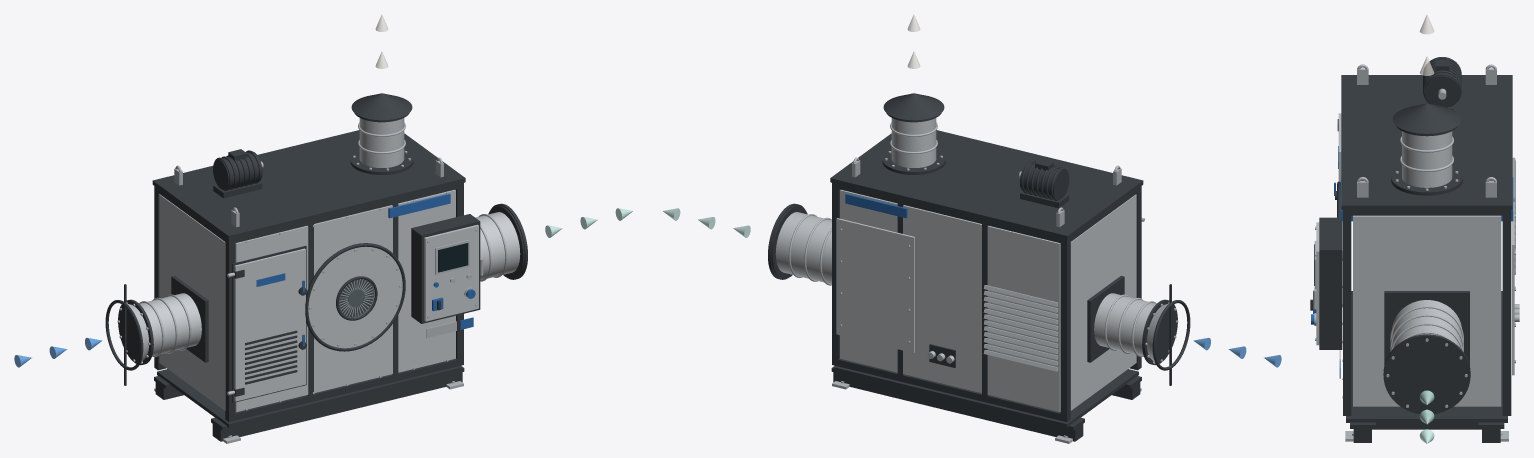
The model's file is dehumidifier.glb.
3 renders of one model, left to right at view 1: azimuth 30°, elevation 25°; view 2: azimuth 150°, elevation 25°; view 3: azimuth 270°, elevation 25°, orthographic. The views are drawn at different scales.
Parts seen in each view (by area): view 1: roof_cap, panel_front, filter_door, panel_end_l, rotor_cover, control_door, skid_runner_front, intake_duct_tube, skid_deck, control_cabinet, supply_duct_tube, exhaust_duct_tube (+20 smaller); view 2: panel_back, roof_cap, back_service_panel, panel_end_l, supply_duct_tube, skid_runner_back, intake_duct_tube, skid_deck, corner_post_1, exhaust_duct_tube, rail_back_bottom, exhaust_cap (+11 smaller); view 3: panel_end_r, roof_cap, supply_end_flange, control_cabinet, skid_deck, exhaust_duct_tube, supply_transition, corner_post_2, corner_post_4, supply_duct_tube, exhaust_cap, fan_motor_body (+11 smaller).
Part boxes in pixels (bbox=[...]): roof_cap: bbox=[152, 130, 465, 239]; panel_front: bbox=[235, 189, 455, 412]; filter_door: bbox=[234, 248, 305, 401]; panel_end_l: bbox=[159, 194, 225, 410]; rotor_cover: bbox=[308, 246, 402, 348]; control_door: bbox=[424, 224, 478, 321]; skid_runner_front: bbox=[212, 366, 462, 441]; intake_duct_tube: bbox=[139, 293, 201, 356]; skid_deck: bbox=[157, 366, 461, 427]; control_cabinet: bbox=[411, 214, 480, 323]; supply_duct_tube: bbox=[475, 212, 520, 280]; exhaust_duct_tube: bbox=[359, 118, 404, 167]; panel_back: bbox=[840, 189, 1060, 412]; roof_cap: bbox=[830, 130, 1143, 239]; back_service_panel: bbox=[836, 218, 914, 352]; panel_end_l: bbox=[1070, 194, 1136, 410]; supply_duct_tube: bbox=[775, 212, 831, 284]; skid_runner_back: bbox=[833, 366, 1083, 441]; intake_duct_tube: bbox=[1094, 293, 1156, 356]; skid_deck: bbox=[834, 366, 1138, 427]; corner_post_1: bbox=[1060, 238, 1070, 422]; exhaust_duct_tube: bbox=[891, 118, 936, 167]; rail_back_bottom: bbox=[835, 358, 1061, 420]; exhaust_cap: bbox=[883, 93, 944, 120]; panel_end_r: bbox=[1353, 215, 1501, 406]; roof_cap: bbox=[1341, 75, 1512, 210]; supply_end_flange: bbox=[1383, 334, 1470, 414]; control_cabinet: bbox=[1319, 217, 1342, 349]; skid_deck: bbox=[1346, 291, 1507, 422]; exhaust_duct_tube: bbox=[1402, 131, 1452, 187]; supply_transition: bbox=[1384, 291, 1469, 365]; corner_post_2: bbox=[1502, 210, 1511, 415]; corner_post_4: bbox=[1343, 210, 1351, 415]; supply_duct_tube: bbox=[1392, 300, 1461, 348]; exhaust_cap: bbox=[1392, 103, 1461, 133]; fan_motor_body: bbox=[1424, 59, 1459, 107].
Bounding box in the file's own units: 5.25 × 2.9 × 1.37.
